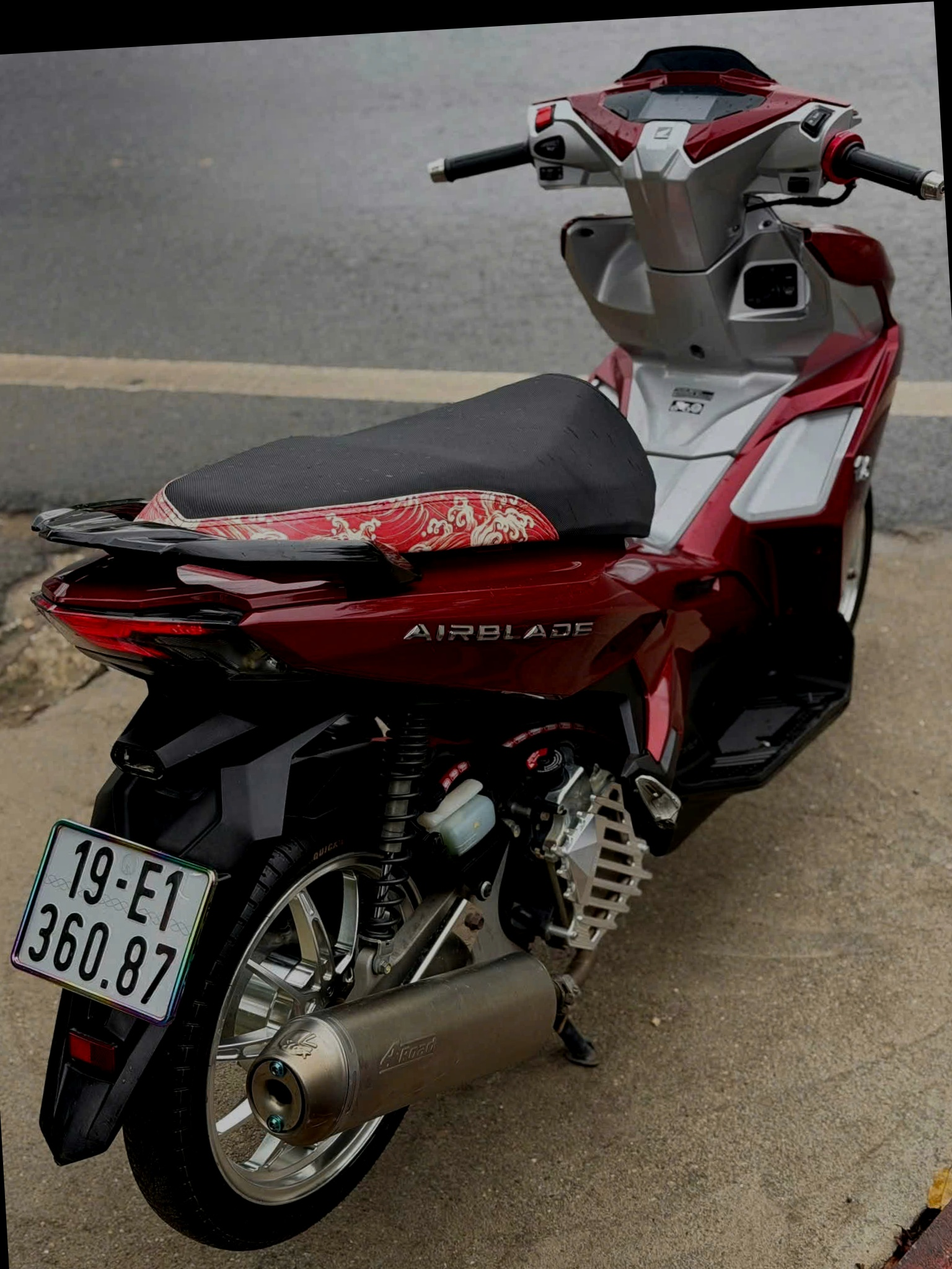Bien-so: (0, 806, 223, 1030)
